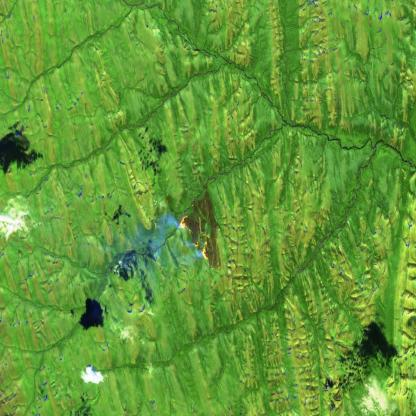fire: (174, 209, 215, 268)
